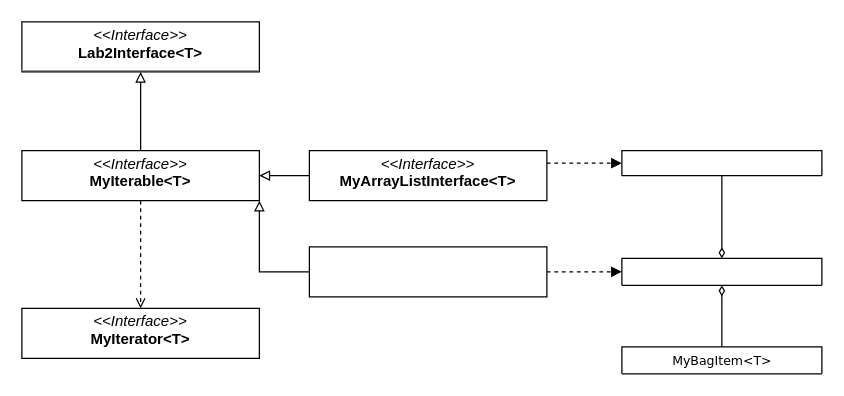
The diagram is 844 pixels wide and 396 high, and some of its shapes have lost their labels. Here are the shapes that lost their labels. From the top down, the centre of each, then its label:
At pixel 721 162: "MyArrayList<T>".
At pixel 427 271: "<<Interface>> MyBagInterface<T>".
At pixel 721 271: "MyBag<T>".
